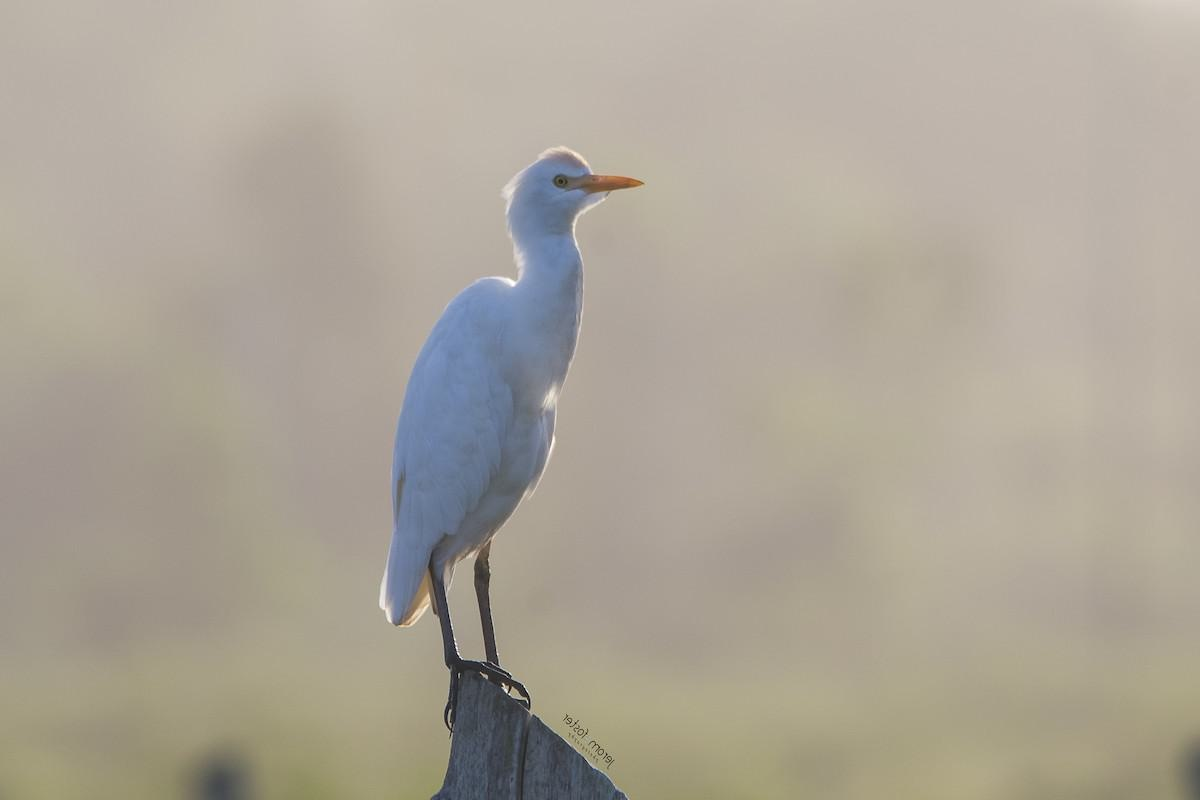egret: (351, 137, 661, 710)
